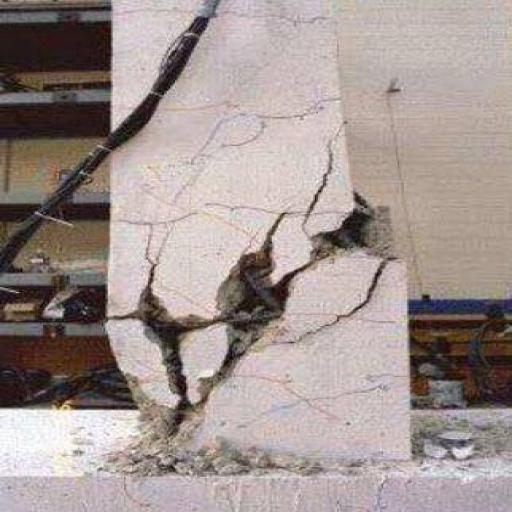spalling: (118, 193, 386, 399), (271, 264, 393, 352), (129, 207, 204, 266), (297, 145, 339, 222)
